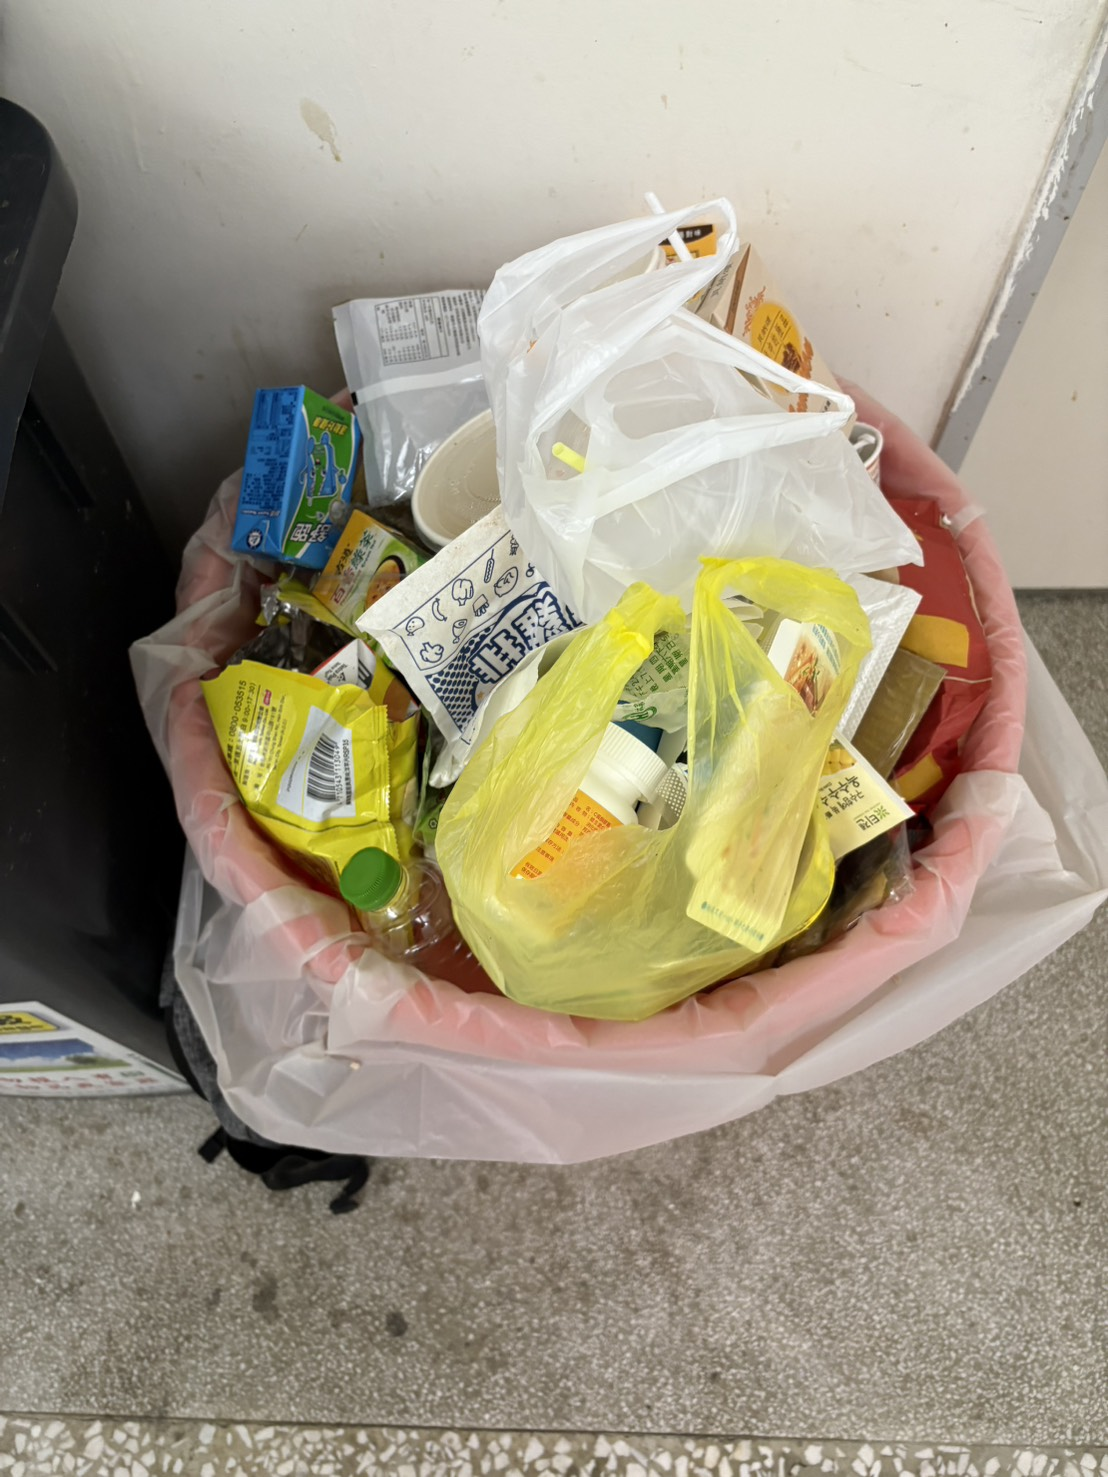overflow_bin: (136, 192, 1075, 1214)
